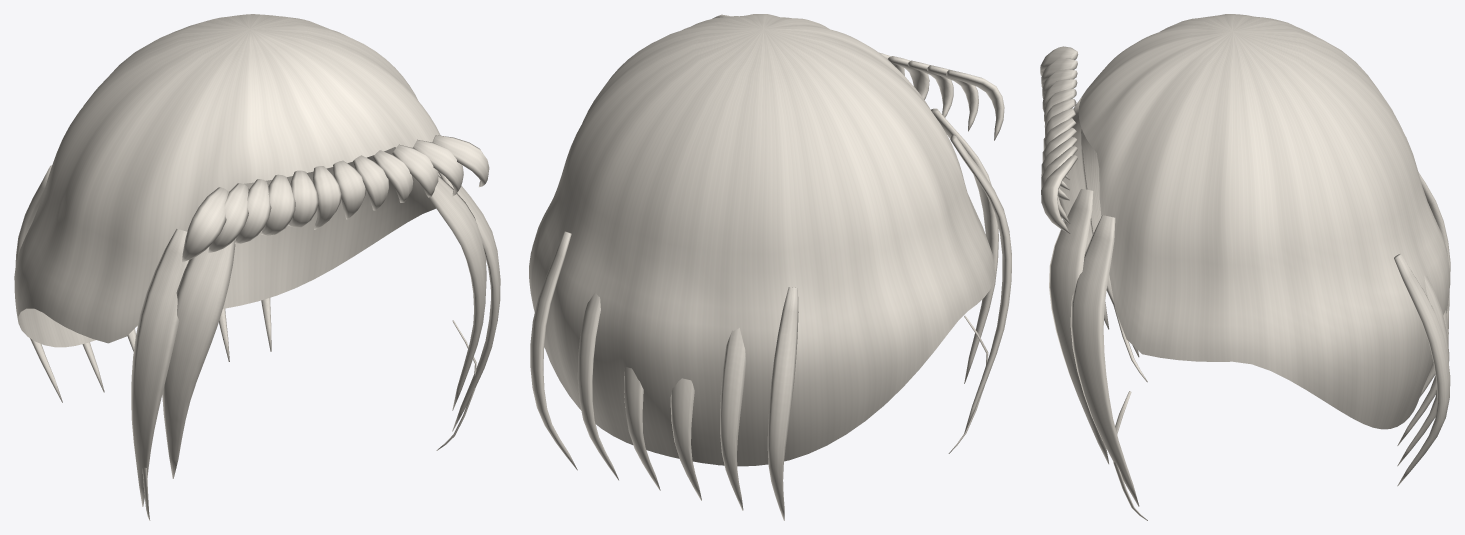
3 renders of one model, left to right at view 1: azimuth 30°, elevation 25°; view 2: azimuth 150°, elevation 25°; view 3: azimuth 270°, elevation 25°, orthographic.
Parts seen in each view (by area): view 1: Portrait hair p2; view 2: Portrait hair p2; view 3: Portrait hair p2.
Part boxes in pixels (x1,y1,x2,y2): Portrait hair p2: [14, 14, 500, 520]; Portrait hair p2: [529, 14, 1011, 520]; Portrait hair p2: [1040, 14, 1450, 520].
Bounding box in the file's own units: 1.1 × 1.08 × 0.952.
1 material, 1 textured.
